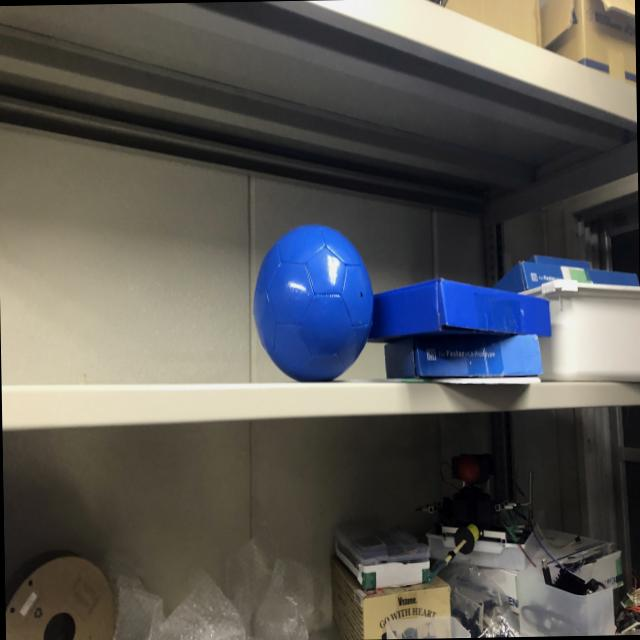blue_ball: (254, 224, 380, 378)
